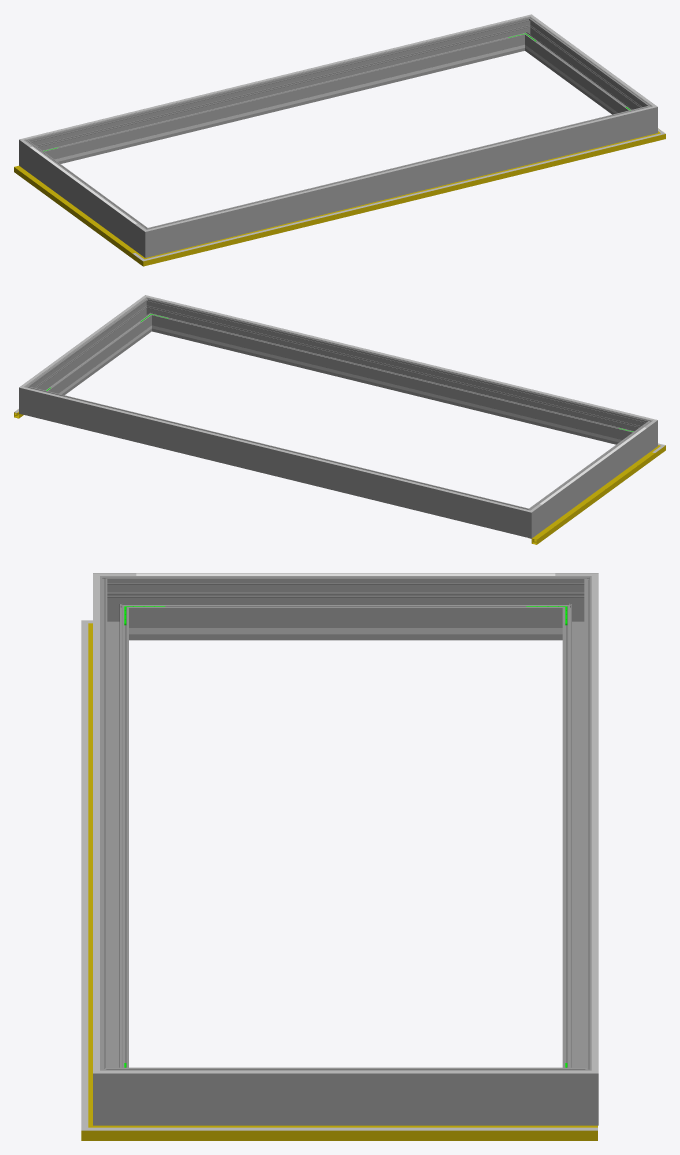
The picture shows the model from 3 angles, top to bottom: view 1: azimuth 30°, elevation 25°; view 2: azimuth 150°, elevation 25°; view 3: azimuth 270°, elevation 25°; orthographic projection. The views are drawn at different scales.
Visible parts, largest first — view 1: 3DGeom-278, 3DGeom-300, 3DGeom-11, 3DGeom-299, 3DGeom-270, 3DGeom-246, 3DGeom-20, 3DGeom-306, 3DGeom-318, 3DGeom-6, 3DGeom-272, 3DGeom-292 (+3 smaller); view 2: 3DGeom-300, 3DGeom-278, 3DGeom-299, 3DGeom-270, 3DGeom-241, 3DGeom-306, 3DGeom-318, 3DGeom-6, 3DGeom-280, 3DGeom-286, 3DGeom-292, 3DGeom-272 (+1 smaller); view 3: 3DGeom-270, 3DGeom-299, 3DGeom-278, 3DGeom-300, 3DGeom-16, 3DGeom-20, 3DGeom-306, 3DGeom-318, 3DGeom-286, 3DGeom-292, 3DGeom-234, 3DGeom-11 (+5 smaller).
Part boxes in pixels (left/top/right/bottom): 3DGeom-278: left=39, top=20, right=521, bottom=163; 3DGeom-300: left=160, top=109, right=639, bottom=253; 3DGeom-11: left=159, top=136, right=647, bottom=261; 3DGeom-299: left=526, top=23, right=643, bottom=114; 3DGeom-270: left=29, top=146, right=139, bottom=249; 3DGeom-246: left=61, top=49, right=506, bottom=160; 3DGeom-20: left=160, top=137, right=646, bottom=256; 3DGeom-306: left=38, top=19, right=514, bottom=135; 3DGeom-318: left=162, top=110, right=638, bottom=227; 3DGeom-6: left=14, top=165, right=136, bottom=258; 3DGeom-272: left=134, top=222, right=163, bottom=257; 3DGeom-292: left=636, top=100, right=657, bottom=137; 3DGeom-300: left=155, top=301, right=637, bottom=444; 3DGeom-278: left=37, top=389, right=515, bottom=533; 3DGeom-299: left=32, top=303, right=149, bottom=395; 3DGeom-270: left=536, top=426, right=647, bottom=530; 3DGeom-241: left=170, top=330, right=615, bottom=441; 3DGeom-306: left=38, top=391, right=514, bottom=507; 3DGeom-318: left=162, top=299, right=638, bottom=416; 3DGeom-6: left=530, top=452, right=655, bottom=544; 3DGeom-280: left=513, top=503, right=542, bottom=538; 3DGeom-286: left=19, top=380, right=40, bottom=417; 3DGeom-292: left=137, top=295, right=162, bottom=332; 3DGeom-272: left=630, top=417, right=657, bottom=453; 3DGeom-270: left=136, top=573, right=555, bottom=640; 3DGeom-299: left=136, top=1067, right=555, bottom=1125; 3DGeom-278: left=562, top=591, right=591, bottom=1067; 3DGeom-300: left=100, top=591, right=128, bottom=1067; 3DGeom-16: left=124, top=1125, right=597, bottom=1140; 3DGeom-20: left=81, top=638, right=88, bottom=1112; 3DGeom-306: left=591, top=591, right=598, bottom=1055; 3DGeom-318: left=93, top=591, right=99, bottom=1055; 3DGeom-286: left=555, top=1055, right=598, bottom=1125; 3DGeom-292: left=93, top=1055, right=135, bottom=1125; 3DGeom-234: left=170, top=628, right=521, bottom=634; 3DGeom-11: left=88, top=638, right=92, bottom=1112.
Size of the model in its own units: 4.27 by 0.2434 by 1.83.
